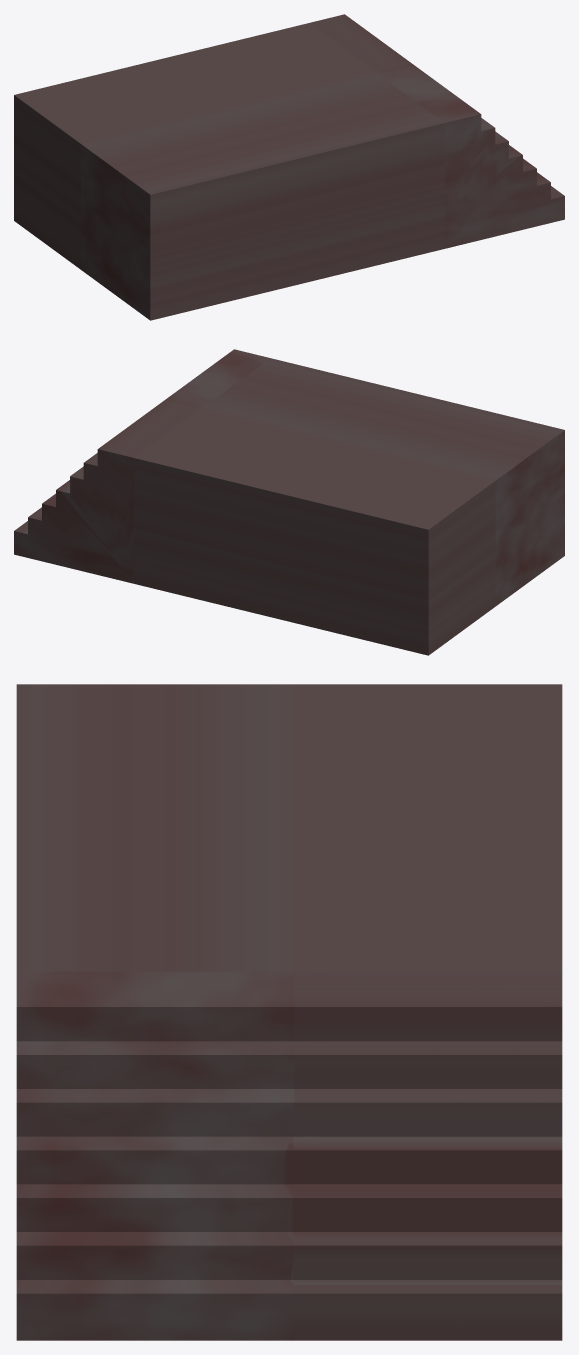
Rendered from stairs.fbx.
The picture shows the model from 3 angles, top to bottom: view 1: azimuth 30°, elevation 25°; view 2: azimuth 150°, elevation 25°; view 3: azimuth 270°, elevation 25°; orthographic projection. The views are drawn at different scales.
Visible parts, largest first — view 1: stairs; view 2: stairs; view 3: stairs.
Part boxes in pixels (left/top/right/bottom): stairs: left=14, top=14, right=564, bottom=320; stairs: left=14, top=349, right=564, bottom=655; stairs: left=16, top=684, right=562, bottom=1340.
Size of the model in its own units: 689 by 200 by 393.
Materials: 1 (1 with a texture image).
